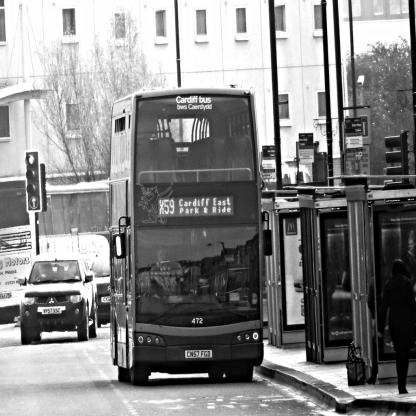Car: (14, 255, 100, 351)
